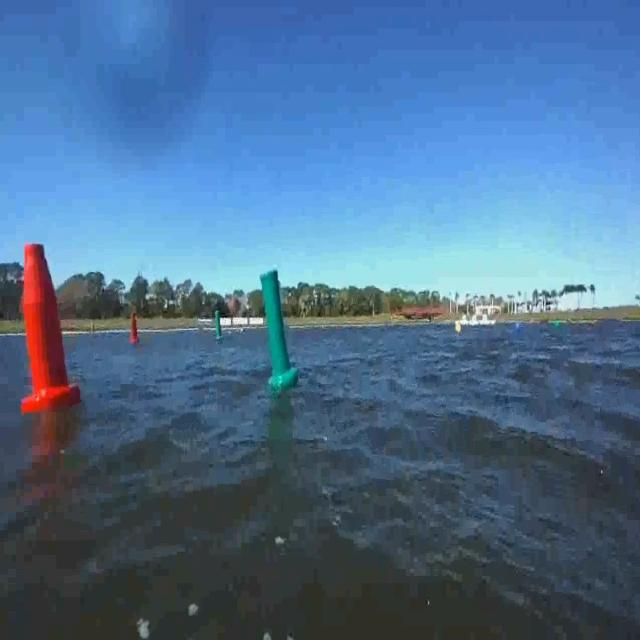blue-buoy: (513, 324, 521, 337)
green-column-buoy: (261, 269, 300, 391), (214, 313, 224, 343)
red-column-buoy: (18, 242, 78, 414), (130, 314, 141, 346)
yellow-buoy: (455, 320, 463, 334)
